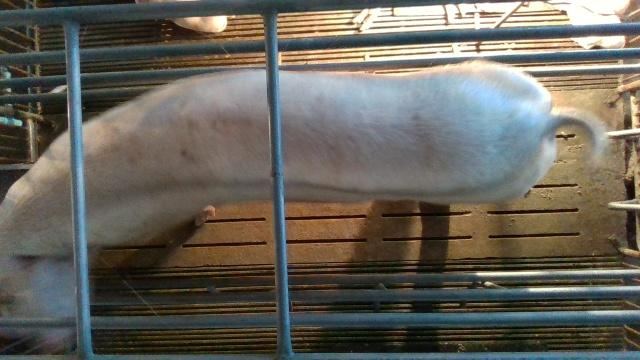sow-stand-feed: (0, 58, 609, 348)
